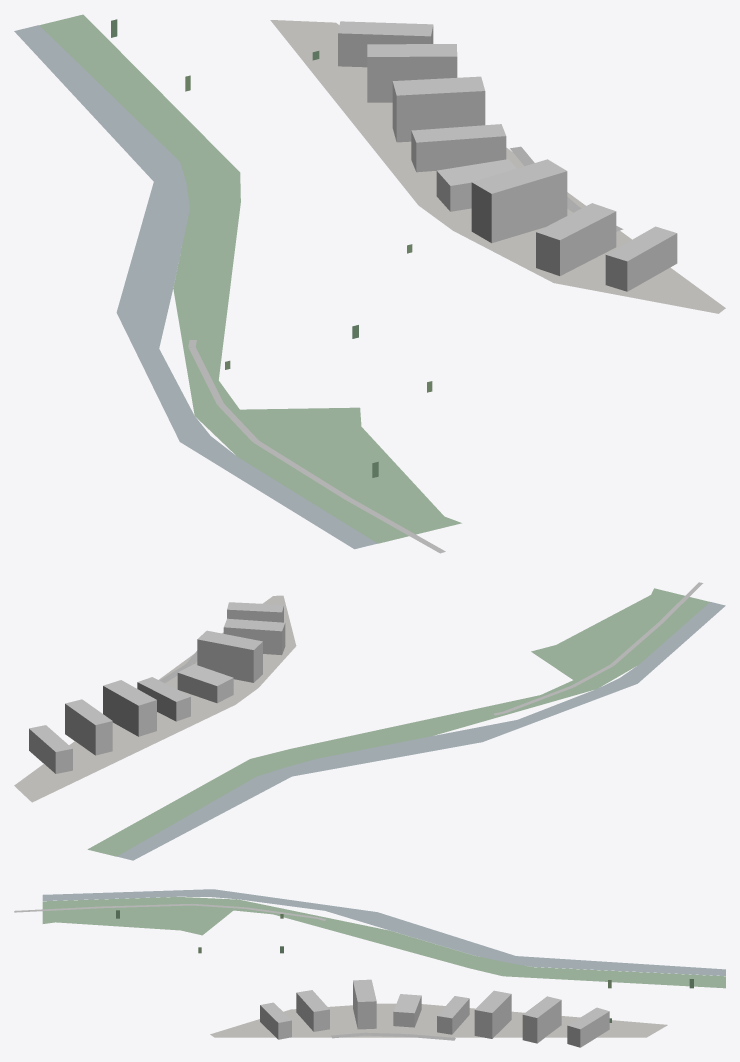
3 renders of one model, top to bottom at view 1: azimuth 30°, elevation 25°; view 2: azimuth 150°, elevation 25°; view 3: azimuth 270°, elevation 25°, orthographic. The views are drawn at different scales.
Size of the model in its own units: 274 by 22.41 by 521.
